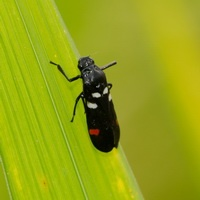insect: (50, 57, 119, 151)
